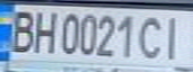0: (57, 9, 81, 55), (78, 10, 100, 56)
1: (115, 11, 139, 60)
2: (97, 10, 118, 58)
B: (3, 7, 39, 54)
C: (136, 12, 169, 61)
H: (30, 8, 60, 54)
I: (157, 12, 190, 62)
